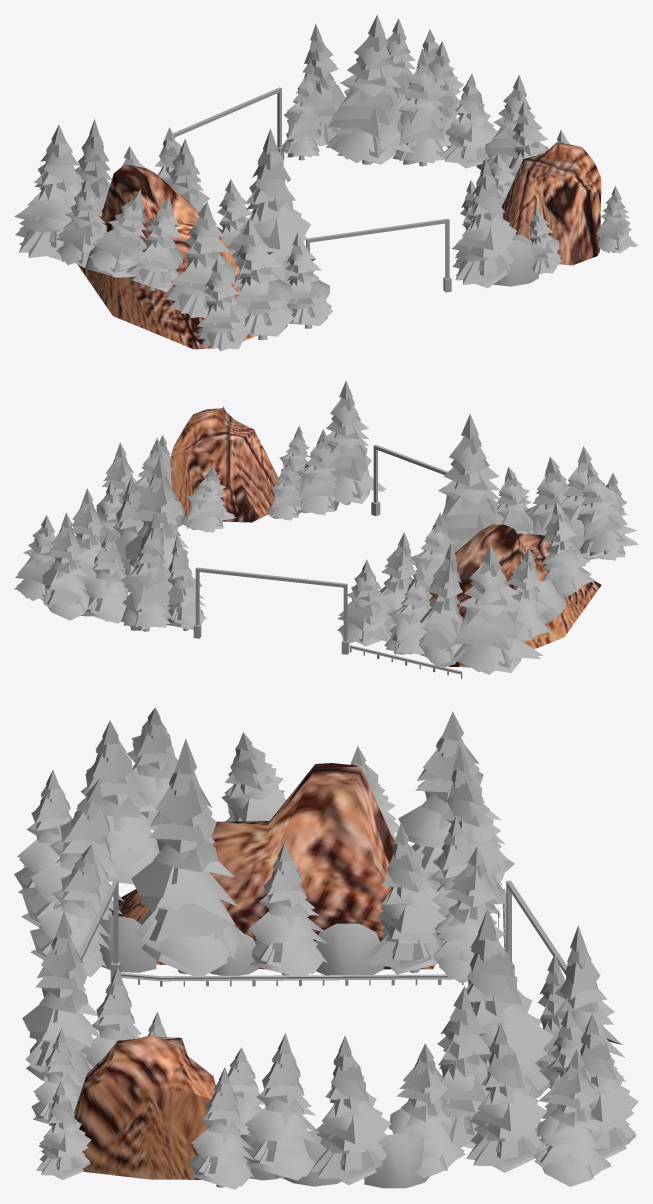
Rendered from Zone_02.fbx.
3 renders of one model, top to bottom at view 1: azimuth 30°, elevation 25°; view 2: azimuth 150°, elevation 25°; view 3: azimuth 270°, elevation 25°, orthographic. The views are drawn at different scales.
Visible parts, largest first — view 1: polymsh81; view 2: polymsh81; view 3: polymsh81.
Part boxes in pixels (box(x1,y1,x2,y2)): polymsh81: box(14, 15, 638, 351); polymsh81: box(14, 380, 638, 678); polymsh81: box(14, 707, 638, 1189).
Size of the model in its own units: 44.29 by 15.32 by 34.66.
